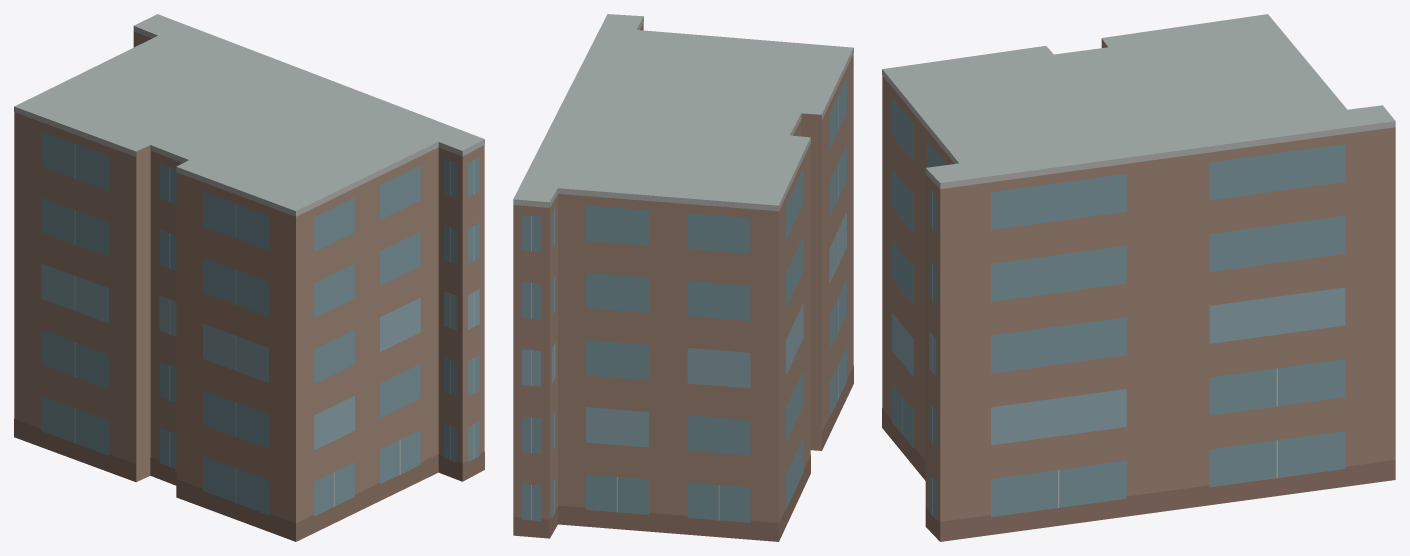
The model's file is survey-upis-32720373.glb.
3 renders of one model, left to right at view 1: azimuth 30°, elevation 25°; view 2: azimuth 150°, elevation 25°; view 3: azimuth 270°, elevation 25°, orthographic. The views are drawn at different scales.
Parts seen in each view (by area): view 1: survey-upis-32720373.tmp; view 2: survey-upis-32720373.tmp; view 3: survey-upis-32720373.tmp.
Boxes of the visible parts, left/top/right/bottom form: survey-upis-32720373.tmp: left=14, top=14, right=484, bottom=541; survey-upis-32720373.tmp: left=513, top=14, right=853, bottom=541; survey-upis-32720373.tmp: left=882, top=14, right=1395, bottom=541.
Bounding box in the file's own units: 14.78 × 14.6 × 18.95.
